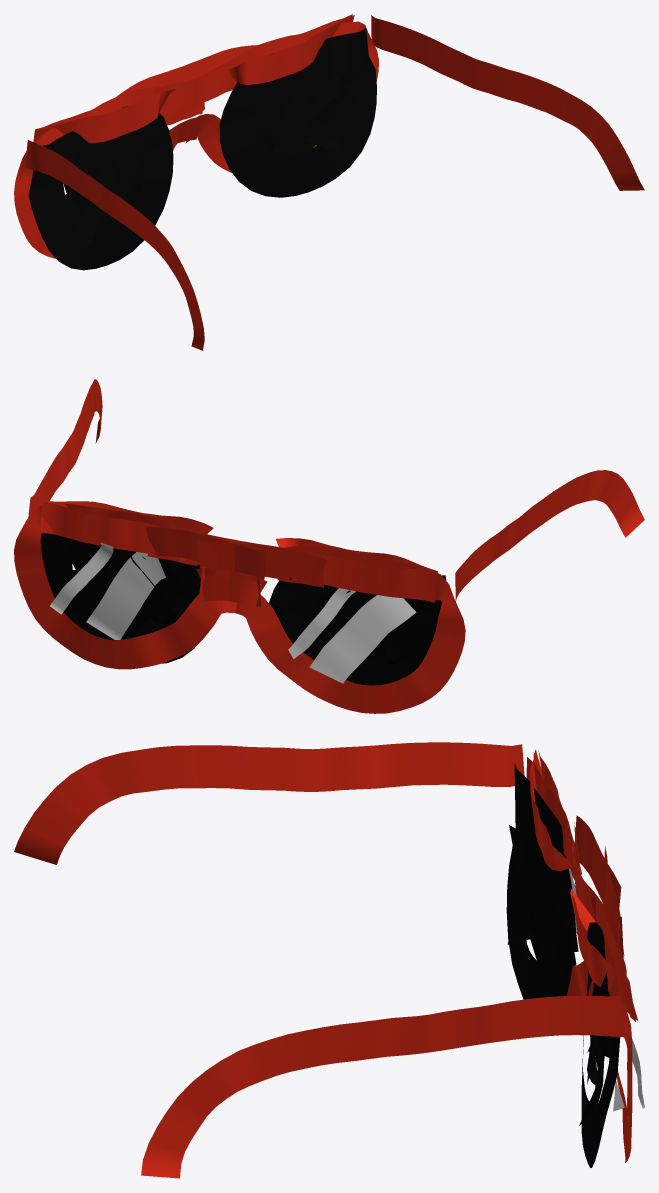
The model's file is Bril.fbx.
The picture shows the model from 3 angles, top to bottom: view 1: azimuth 30°, elevation 25°; view 2: azimuth 150°, elevation 25°; view 3: azimuth 270°, elevation 25°; orthographic projection. The views are drawn at different scales.
Parts seen in each view (by area): view 1: Flat_geo; view 2: Flat_geo; view 3: Flat_geo.
Boxes of the visible parts, <box> form: Flat_geo: <box>14,14,644,350</box>; Flat_geo: <box>14,379,644,713</box>; Flat_geo: <box>14,742,644,1178</box>.
Bounding box in the file's own units: 0.2655 × 0.0811 × 0.2077.
